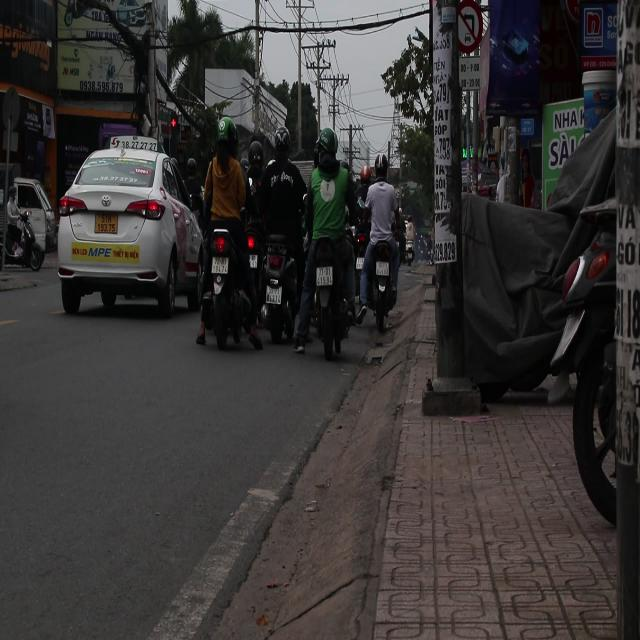car: (56, 142, 206, 318)
motorbike: (197, 215, 264, 352), (258, 227, 302, 348), (307, 241, 353, 352), (2, 182, 51, 270), (364, 242, 398, 332)
